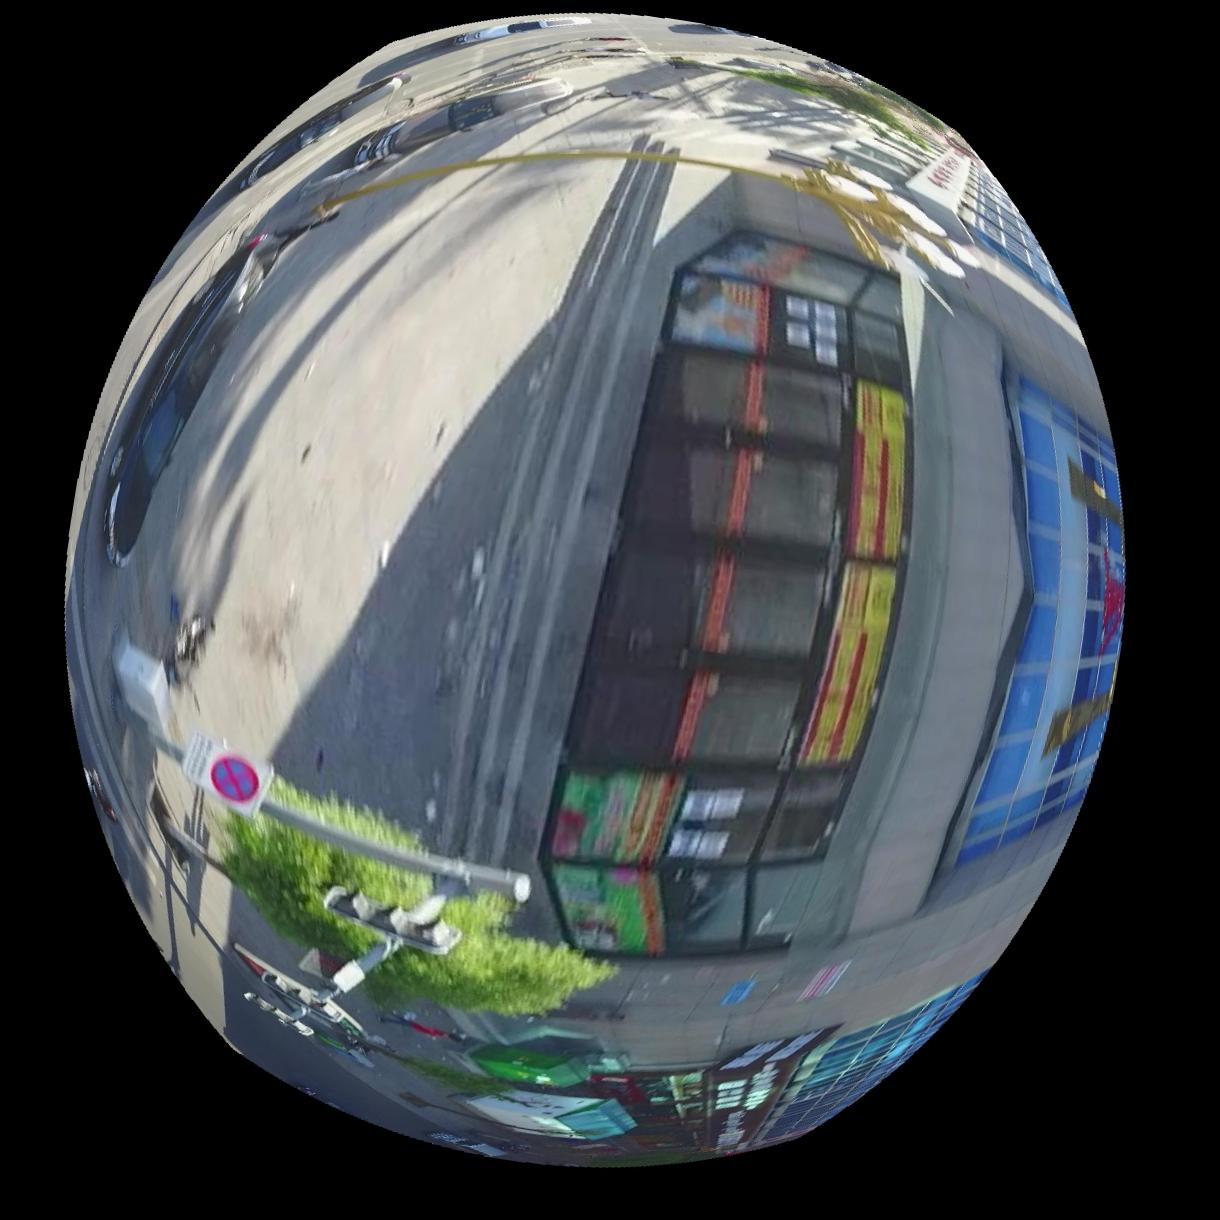building: (542, 63, 1124, 1162), (463, 1090, 635, 1141)
cars: (99, 233, 281, 566), (223, 68, 408, 189), (348, 76, 571, 167), (451, 12, 590, 42)
trees: (207, 814, 429, 961), (359, 892, 614, 1015), (272, 782, 413, 844), (361, 1042, 509, 1098)
